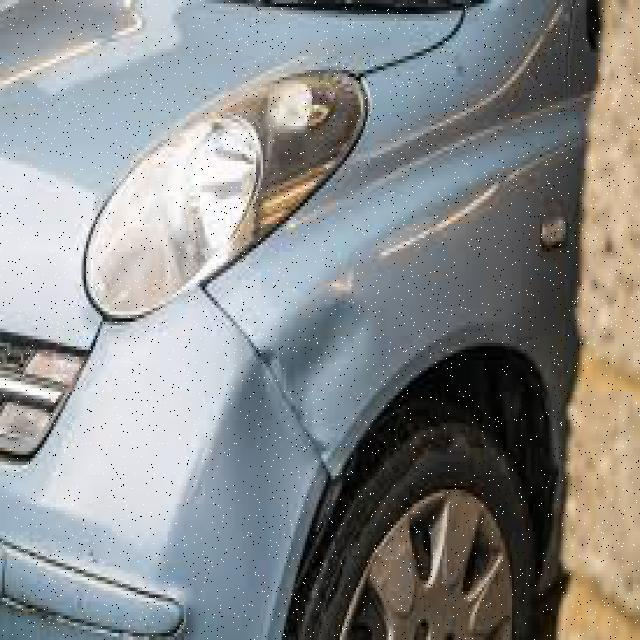fender-dent: (262, 59, 594, 503)
